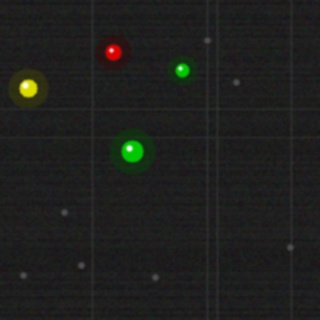green_normal: (119, 138, 145, 164), (173, 61, 191, 79)
red_fault: (103, 42, 123, 62)
yellow_warning: (17, 77, 39, 99)
